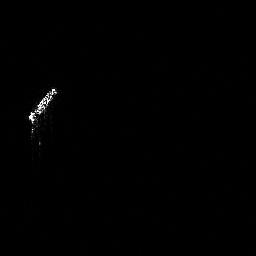ship: (24, 84, 60, 137)
